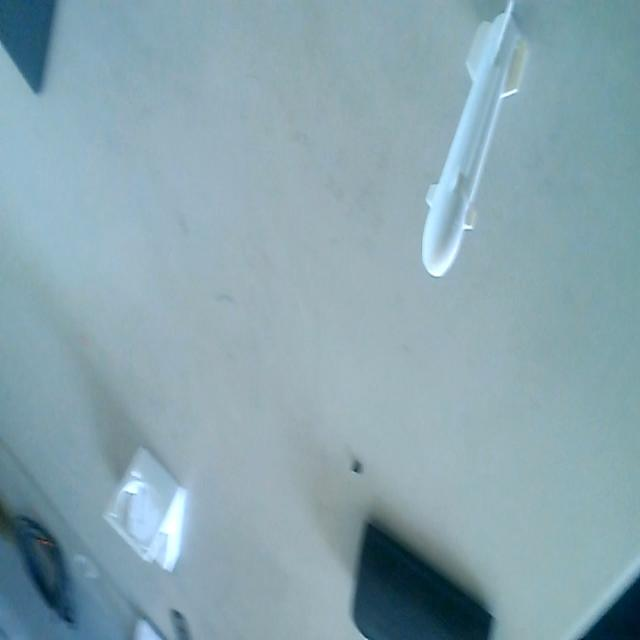Rocket: (422, 0, 529, 291)
